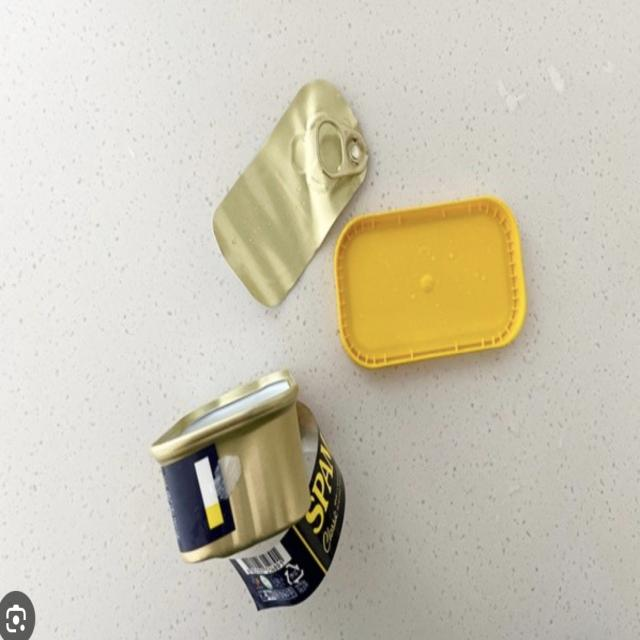recyclable: (201, 63, 366, 314), (144, 346, 312, 584), (330, 194, 540, 373)
